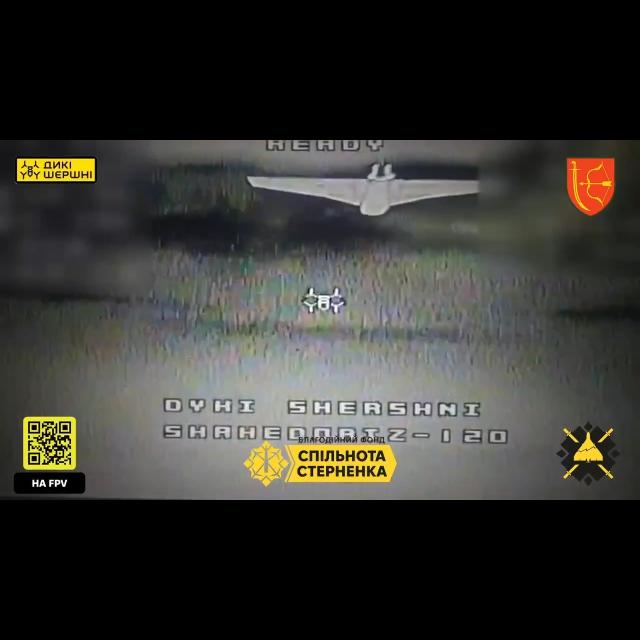Gerbera: (245, 162, 477, 216)
